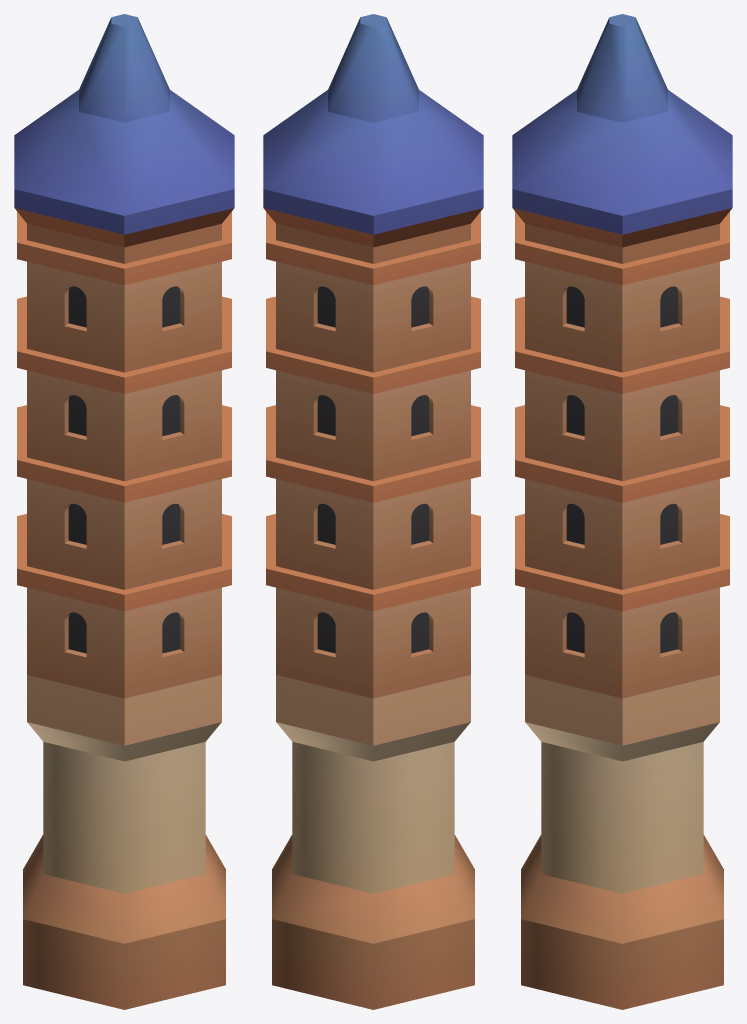
The model's file is phare.glb.
3 views of the same model, side by side, from view 1: azimuth 30°, elevation 25°; view 2: azimuth 150°, elevation 25°; view 3: azimuth 270°, elevation 25° (orthographic).
Parts seen in each view (by area): view 1: tower-hexagon-base; view 2: tower-hexagon-base; view 3: tower-hexagon-base.
Part boxes in pixels (x1,y1,x2,y2): tower-hexagon-base: (14,14,234,1009); tower-hexagon-base: (263,14,483,1009); tower-hexagon-base: (512,14,732,1009).
Size of the model in its own units: 3.9 by 15.92 by 3.38.
Materials: 1 (1 with a texture image).
